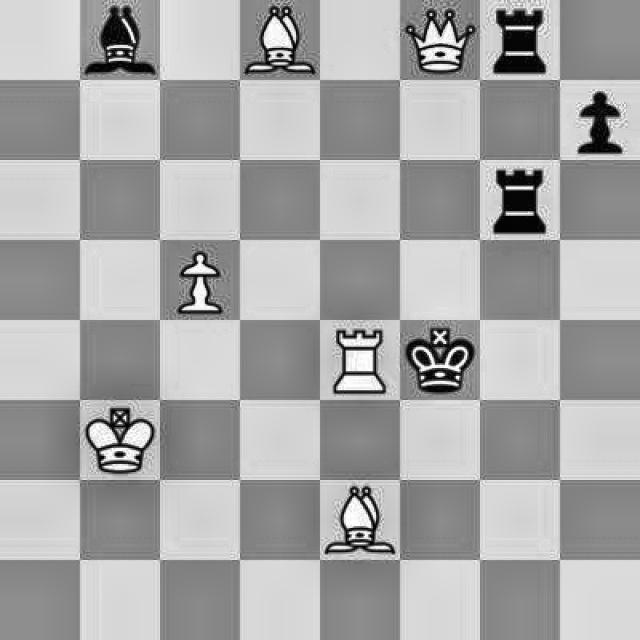black bishop: (83, 1, 158, 78)
black king: (403, 322, 475, 399)
black pawn: (564, 80, 634, 158)
black rook: (484, 162, 558, 236), (487, 2, 554, 76)
white bishop: (322, 480, 398, 563), (238, 0, 318, 78)
white king: (82, 402, 156, 479)
white pawn: (160, 244, 234, 316)
white queen: (404, 2, 478, 82)
white rook: (326, 322, 398, 396)
